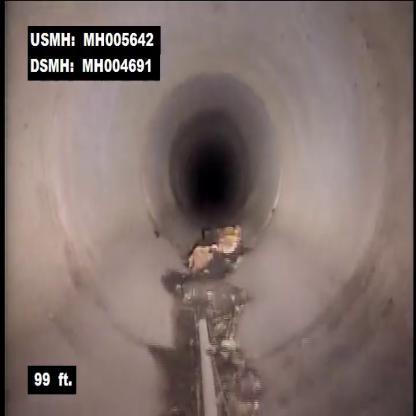Debris: (179, 202, 249, 278)
